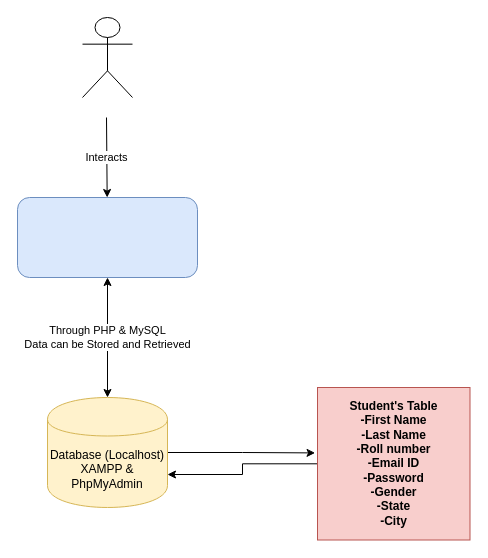
Some shapes in this 488 by 558 pixel diagram are drawn without their labels. Here are the shapes that lost their labels. From the top down, the centre of each, then its label:
At (x=107, y=57): "User".
At (x=107, y=237): "Front-End/ User Interface HTML, CSS, SCSS, Bootstrap".
